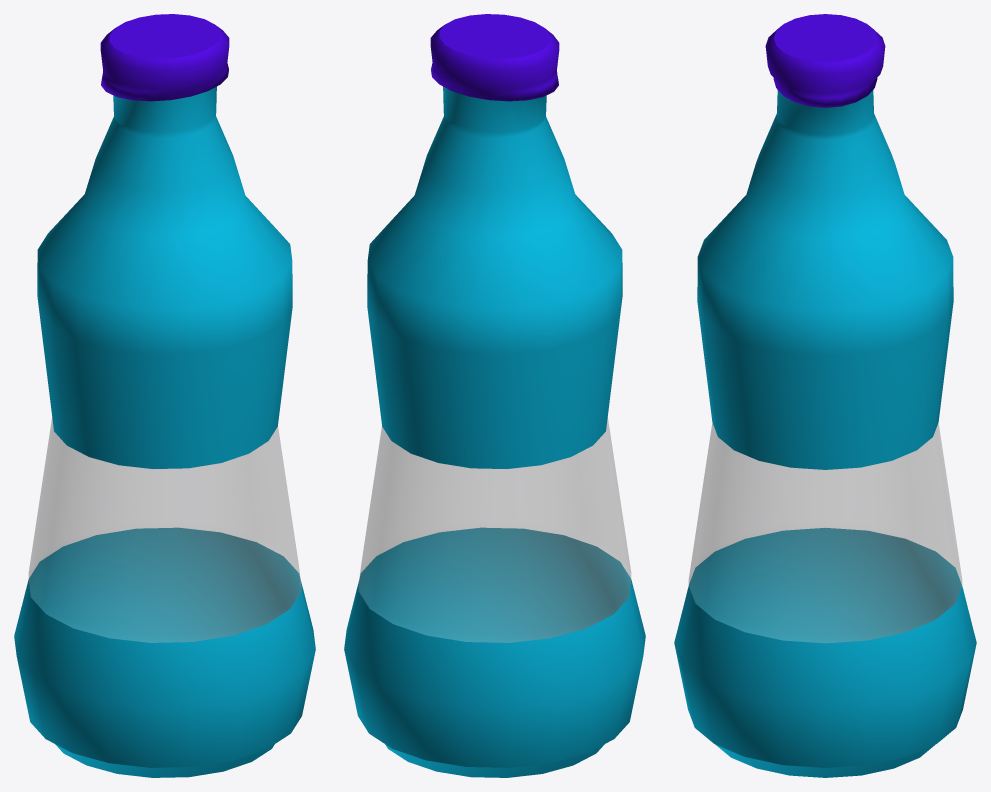
Rendered from bottle.fbx.
3 renders of one model, left to right at view 1: azimuth 30°, elevation 25°; view 2: azimuth 150°, elevation 25°; view 3: azimuth 270°, elevation 25°, orthographic.
Visible parts, largest first — view 1: pCylinder1; view 2: pCylinder1; view 3: pCylinder1.
Part boxes in pixels (x1,y1,x2,y2): pCylinder1: (14, 14, 315, 777); pCylinder1: (344, 14, 645, 777); pCylinder1: (674, 14, 976, 777).
Size of the model in its own units: 1.5 by 3.77 by 1.5.
